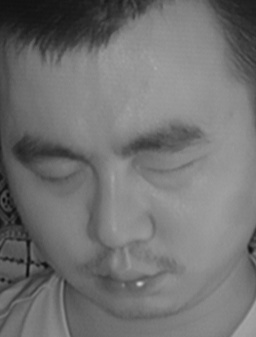blink: (141, 154, 202, 186), (37, 163, 87, 197)
mouth: (87, 255, 173, 303)
